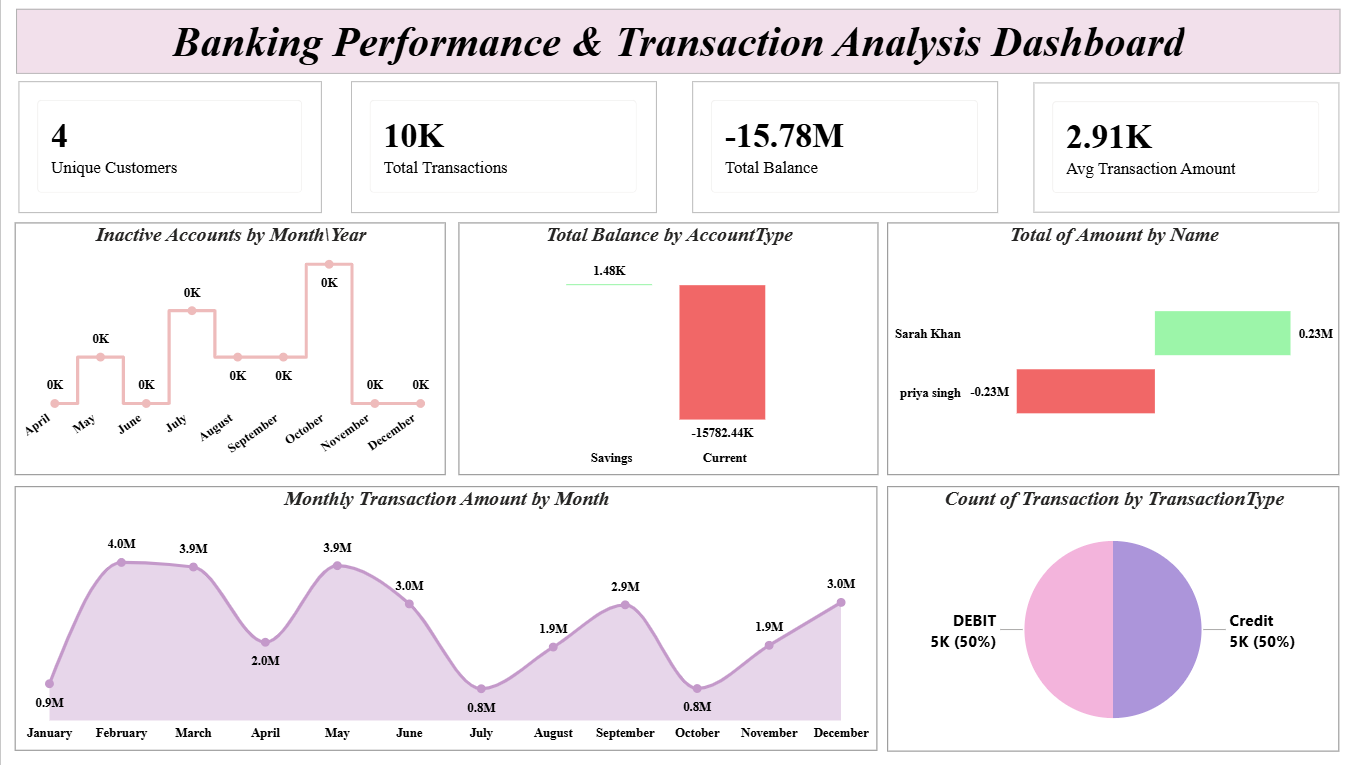

The dashboard page shown, as its layout file describes it:
{"tool":"powerbi","page":{"name":"Banking Performance & Transaction Analysis Dashboard","canvas":[1280,720],"ordinal":0},"visuals":[{"type":"pieChart","fields":{"Category":["CombinedBankingDataset.TransactionType"],"Y":["Measures Table.Count of Transaction"]},"box":[839.7,461,428.3,251.3],"z":0},{"type":"areaChart","fields":{"Category":["CombinedBankingDataset.TransactionDate.Variation.Date Hierarchy.Month"],"Y":["Measures Table.Monthly Transaction Amount"]},"box":[13.5,461,817.2,250.2],"z":1000},{"type":"barChart","title":"Total of Amount by Name","fields":{"Y":["Sum(CombinedBankingDataset.Amount)"],"Category":["CombinedBankingDataset.Name"]},"box":[839.7,210.8,428.3,238.9],"z":2000},{"type":"clusteredColumnChart","fields":{"Category":["CombinedBankingDataset.AccountType"],"Y":["Measures Table.Total Balance"]},"box":[432.8,210.8,397.9,238.9],"z":3000},{"type":"lineChart","title":"Inactive Accounts by Month\\Year","fields":{"Y":["Measures Table.Inactive Accounts"],"Category":["CombinedBankingDataset.TransactionDate.Variation.Date Hierarchy.Year","CombinedBankingDataset.TransactionDate.Variation.Date Hierarchy.Month"]},"box":[13.5,210.8,408,238.9],"z":4000},{"type":"shape","box":[13.7,8.2,1254.2,61.7],"z":5000},{"type":"cardVisual","fields":{"Data":["Measures Table.Total Customer"]},"box":[16.3,76.7,287.2,124.4],"z":6000},{"type":"cardVisual","fields":{"Data":["Measures Table.Total Transactions"]},"box":[331.4,76.7,289.5,124.4],"z":7000},{"type":"cardVisual","fields":{"Data":["Measures Table.Total Balance"]},"box":[654.7,76.7,289.5,124.4],"z":8000},{"type":"cardVisual","fields":{"Data":["Measures Table.Avg Transaction Amount"]},"box":[977.9,77.9,289.5,123.3],"z":9000}]}

Visuals, with their boxes in screenshot pixels (x1, y1, x2, y2), scaled from the page's 1280x720 canvas onto the 1351x765 screenshot:
pieChart - CombinedBankingDataset.TransactionType x Measures Table.Count of Transaction: <box>886,490,1338,757</box>
areaChart - CombinedBankingDataset.TransactionDate.Variation.Date Hierarchy.Month x Measures Table.Monthly Transaction Amount: <box>14,490,877,756</box>
"Total of Amount by Name" barChart: <box>886,224,1338,478</box>
clusteredColumnChart - CombinedBankingDataset.AccountType x Measures Table.Total Balance: <box>457,224,877,478</box>
"Inactive Accounts by Month\Year" lineChart: <box>14,224,445,478</box>
shape: <box>14,9,1338,74</box>
cardVisual - Measures Table.Total Customer: <box>17,81,320,214</box>
cardVisual - Measures Table.Total Transactions: <box>350,81,655,214</box>
cardVisual - Measures Table.Total Balance: <box>691,81,997,214</box>
cardVisual - Measures Table.Avg Transaction Amount: <box>1032,83,1338,214</box>
